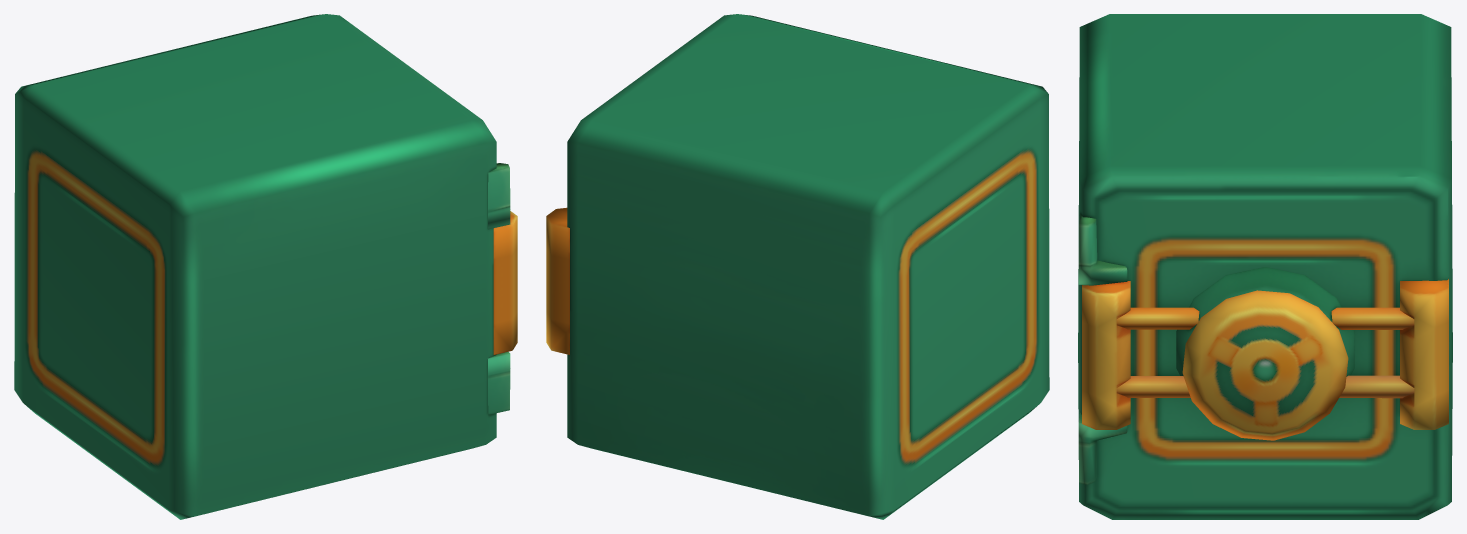
Rendered from Safe.fbx.
3 views of the same model, side by side, from view 1: azimuth 30°, elevation 25°; view 2: azimuth 150°, elevation 25°; view 3: azimuth 270°, elevation 25° (orthographic). The views are drawn at different scales.
Parts seen in each view (by area): view 1: Safe; view 2: Safe; view 3: Safe.
Part boxes in pixels (left/top/right/bottom): Safe: left=14, top=14, right=517, bottom=519; Safe: left=546, top=14, right=1049, bottom=519; Safe: left=1078, top=14, right=1452, bottom=519.
Bounding box in the file's own units: 86.44 × 75.06 × 72.54.
